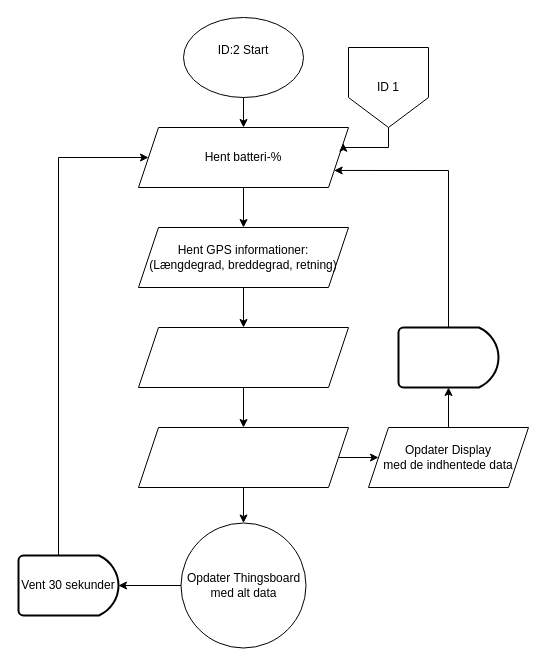
Some shapes in this 546 by 666 pixel diagram are drawn without their labels. The shapes that lost their labels are listed below. From the top down, each one's centre as x and y in pixels, then its label:
[243,357]: LMT84LPM: Mål temperatur
[448,357]: Vent 1 sekund
[243,457]: GY-512: Mål hastighed
